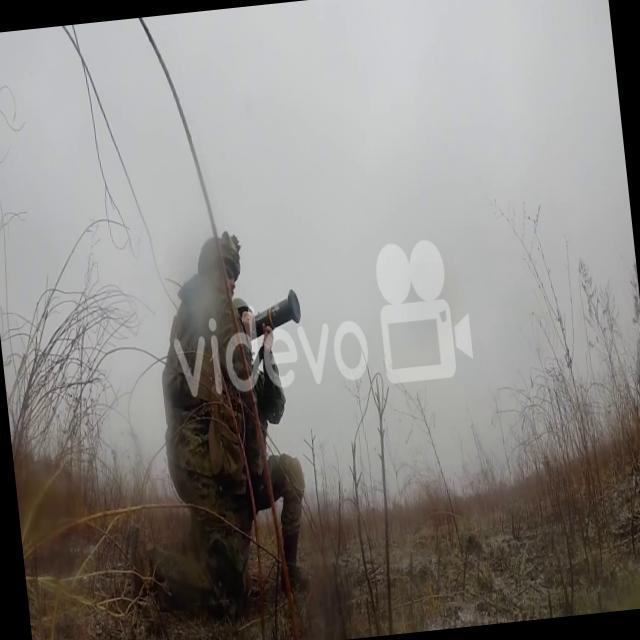rocket: (246, 290, 302, 346)
